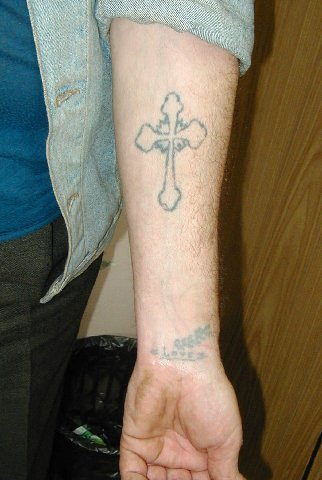tatu9_krest: (119, 88, 211, 210)
